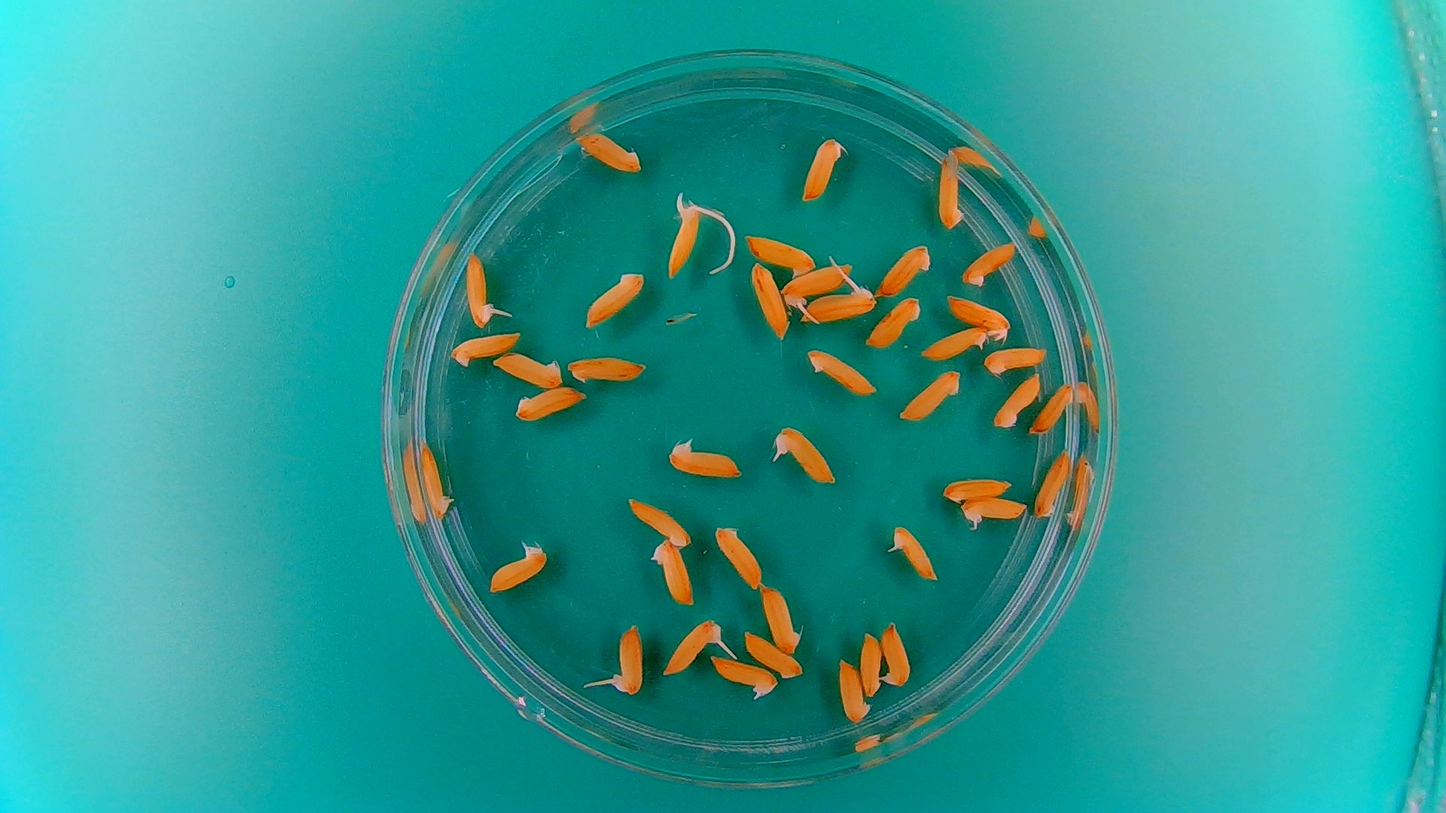no: (581, 268, 647, 329), (569, 129, 654, 175), (803, 345, 877, 396), (626, 495, 694, 549), (897, 367, 962, 422), (712, 522, 764, 590), (758, 580, 804, 655), (748, 258, 790, 340), (799, 132, 847, 203), (647, 536, 695, 607), (744, 230, 817, 276), (740, 627, 804, 679), (874, 241, 932, 297), (865, 294, 922, 349), (945, 293, 1012, 339), (448, 328, 523, 368), (992, 370, 1042, 430), (960, 237, 1018, 288), (511, 384, 588, 422), (562, 352, 648, 386), (490, 350, 564, 389), (1033, 447, 1073, 519), (836, 654, 872, 726), (935, 150, 966, 230), (1030, 380, 1075, 434), (940, 473, 1014, 504), (983, 343, 1046, 377), (857, 629, 883, 699)
yes: (769, 422, 839, 485), (660, 615, 727, 677), (485, 534, 550, 595), (664, 433, 746, 479), (664, 193, 705, 282), (416, 436, 458, 522), (706, 651, 780, 699), (779, 260, 854, 306), (464, 248, 506, 330), (603, 620, 645, 702), (886, 521, 939, 583), (801, 282, 879, 324), (920, 323, 990, 361), (879, 617, 914, 690), (959, 495, 1029, 529)
